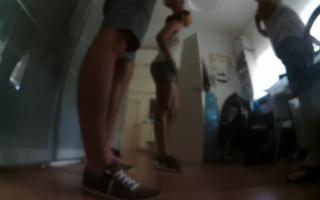person: (74, 1, 163, 200), (247, 1, 320, 186), (146, 5, 198, 175)
